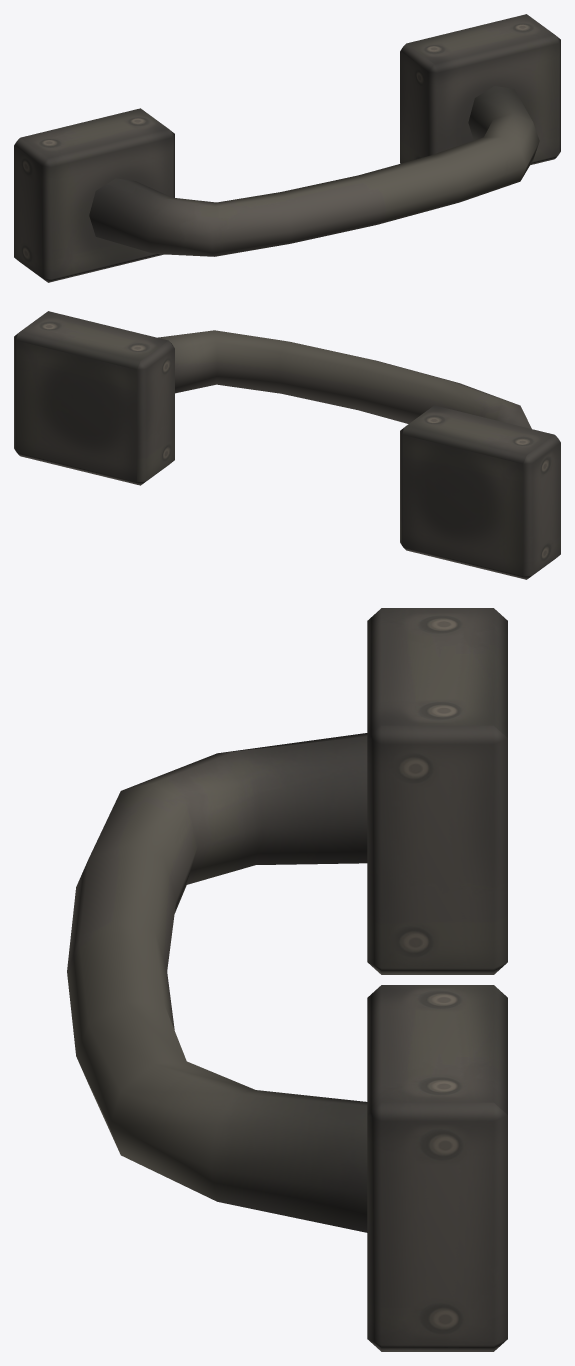
File: SM_CrateHandle.fbx
3 views of the same model, one above another, from view 1: azimuth 30°, elevation 25°; view 2: azimuth 150°, elevation 25°; view 3: azimuth 270°, elevation 25° (orthographic). The views are drawn at different scales.
Parts seen in each view (by area): view 1: polySurface8; view 2: polySurface8; view 3: polySurface8.
Part boxes in pixels (bbox=[...]): polySurface8: bbox=[14, 14, 560, 282]; polySurface8: bbox=[14, 311, 560, 579]; polySurface8: bbox=[67, 608, 507, 1351].
Size of the model in its own units: 1.24 by 0.2841 by 0.4558.
